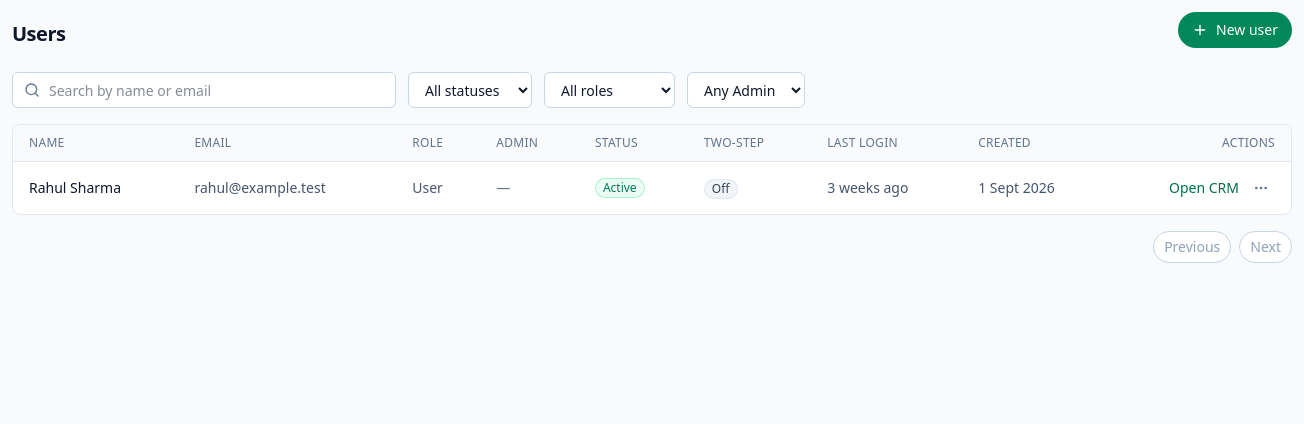
Scenario: who is offered Delete account › is last in the menu, after Deactivate, and as red as Deactivate
The image size is (1304, 424).
Click the button named "Actions for Rahul Sharma". click: (1261, 188)
box: [1245,172,1277,204]
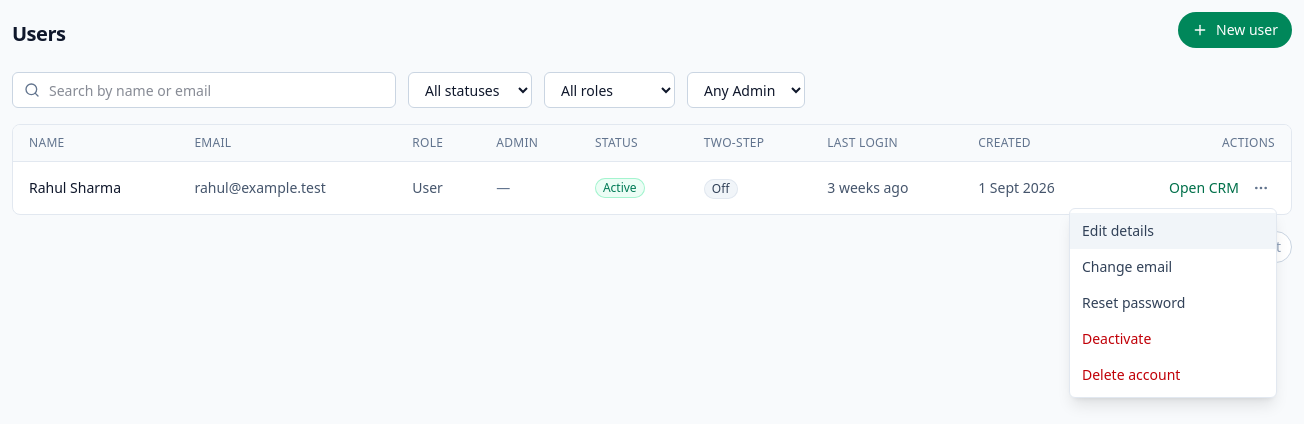
Now the menu items read "Edit details", "Change email", "Reset password", "Deactivate", "Delete account", in this order, box [1070,213,1276,249]; [1070,249,1276,285]; [1070,285,1276,321]; [1070,321,1276,357]; [1070,357,1276,393]
